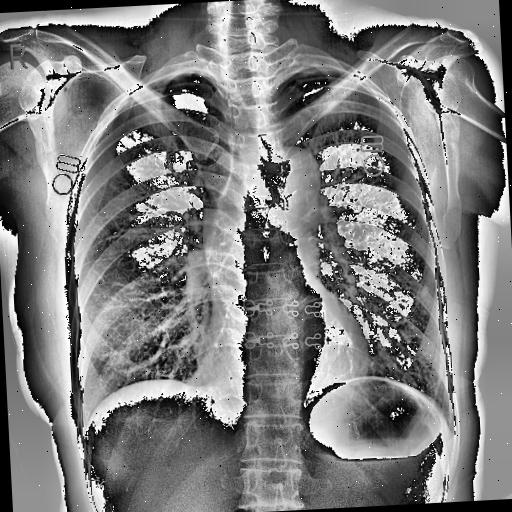0- Aortic enlargement: (196, 147, 326, 279), (267, 146, 320, 202)
2- Calcification: (420, 286, 430, 302), (420, 284, 430, 298)
8- Nodule-Mass: (420, 286, 430, 302)
9- Other lesion: (420, 282, 432, 299)
